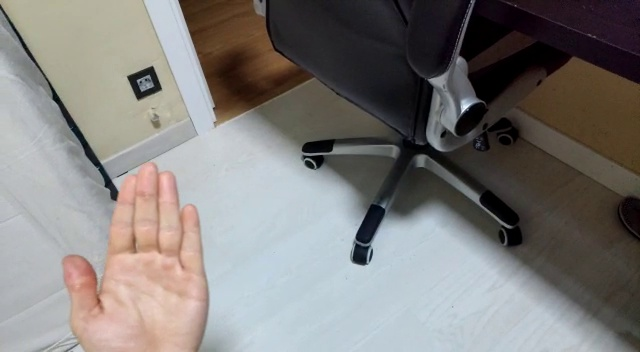Palm: (39, 160, 211, 350)
